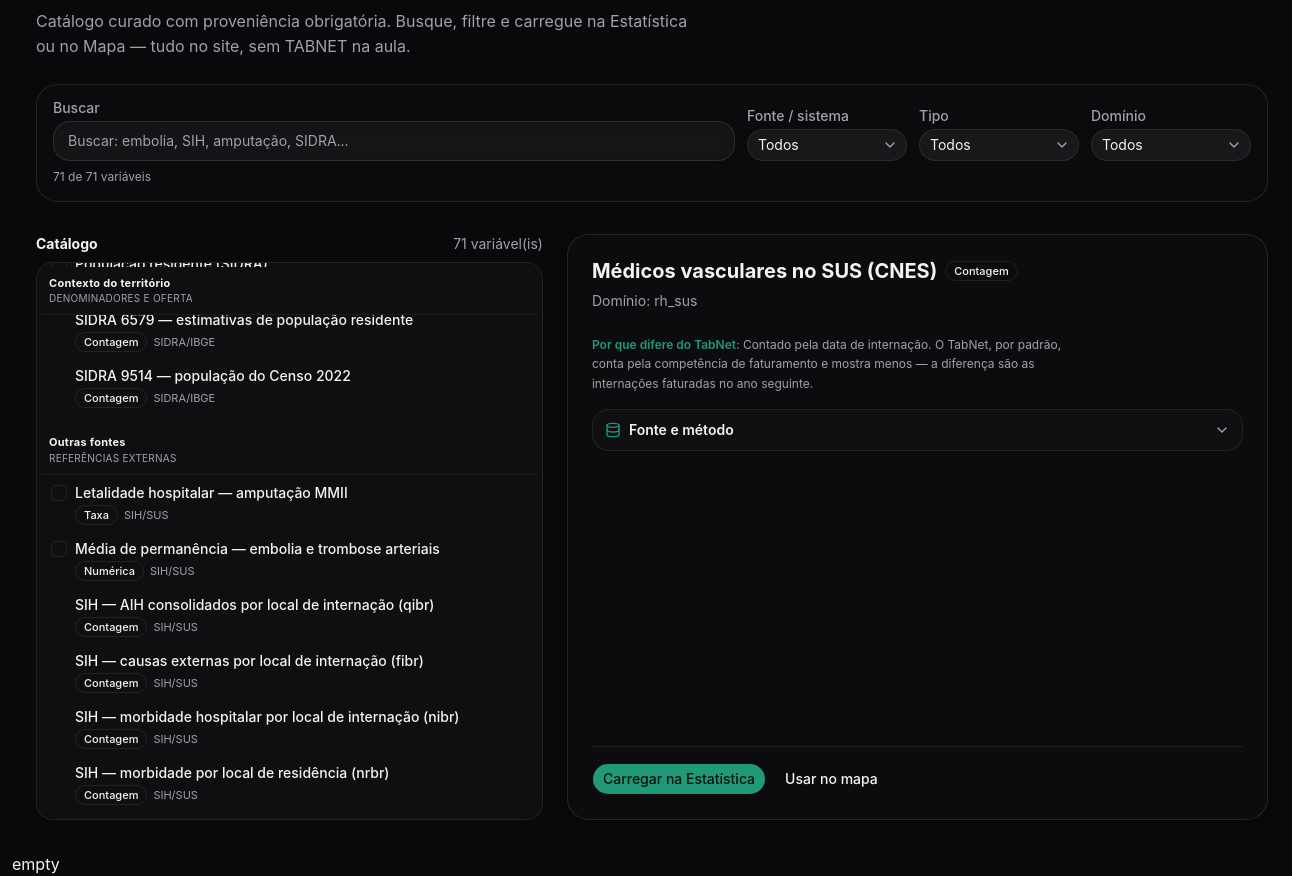
Test case: VariaveisPage › disables Estatística load for reference-only selection
The width and height of the screenshot is (1292, 876).
(page scrolled)
Expected: the text "SIH — morbidade hospitalar por local de internação (nibr)" is shown, [75,707,460,727]
Click the button "morbidade hospitalar por local de internação".
click(267, 716)  # box [75,707,528,749]
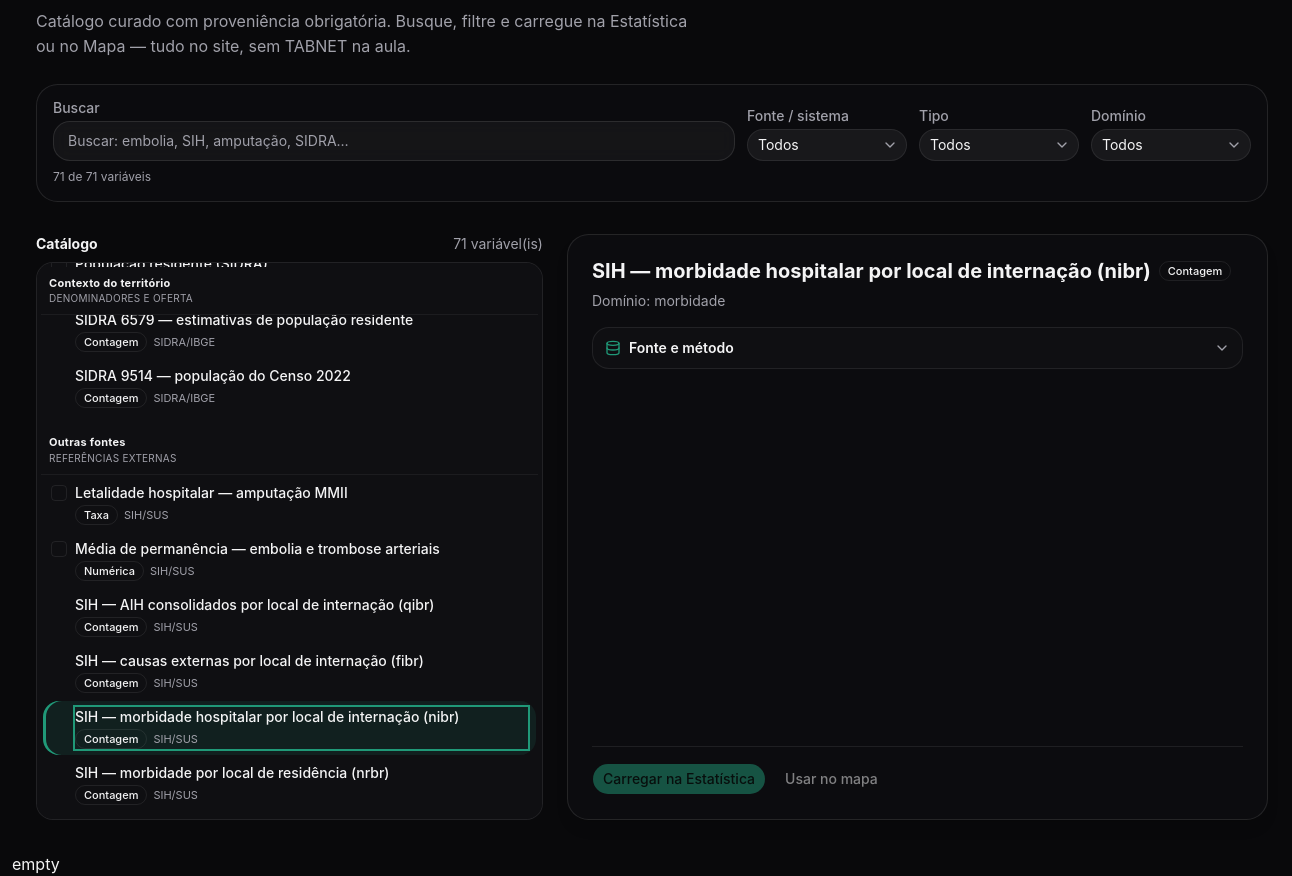
Now the button "Carregar na Estatística" is disabled, box [592,763,766,795]
Now the button "Usar no mapa" is disabled, box [774,763,889,795]
